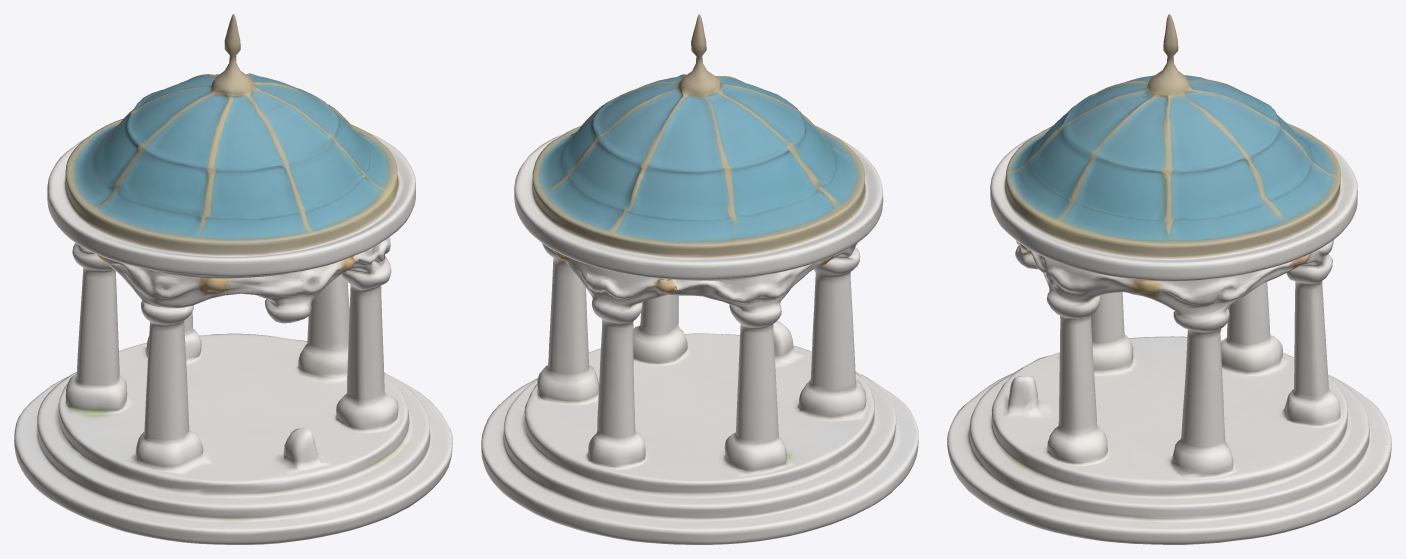
Rendered from sanctuary.glb.
3 renders of one model, left to right at view 1: azimuth 30°, elevation 25°; view 2: azimuth 150°, elevation 25°; view 3: azimuth 270°, elevation 25°, orthographic.
Visible parts, largest first — view 1: model; view 2: model; view 3: model.
Boxes of the visible parts, x1,y1,x2,y2 form: model: (14,14,452,544); model: (481,14,918,544); model: (947,14,1391,544).
Size of the model in its own units: 1.68 by 1.88 by 1.71.
Materials: 1 (1 with a texture image).
